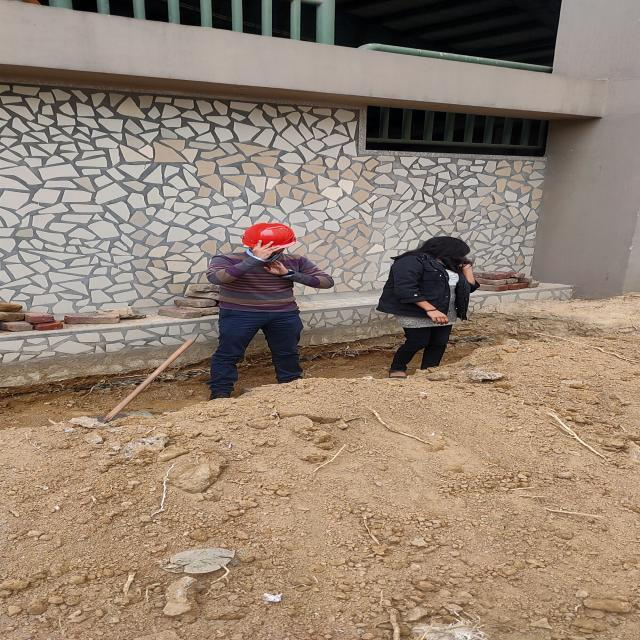no jacket: (208, 223, 338, 396)
unsafe: (375, 236, 480, 379)
